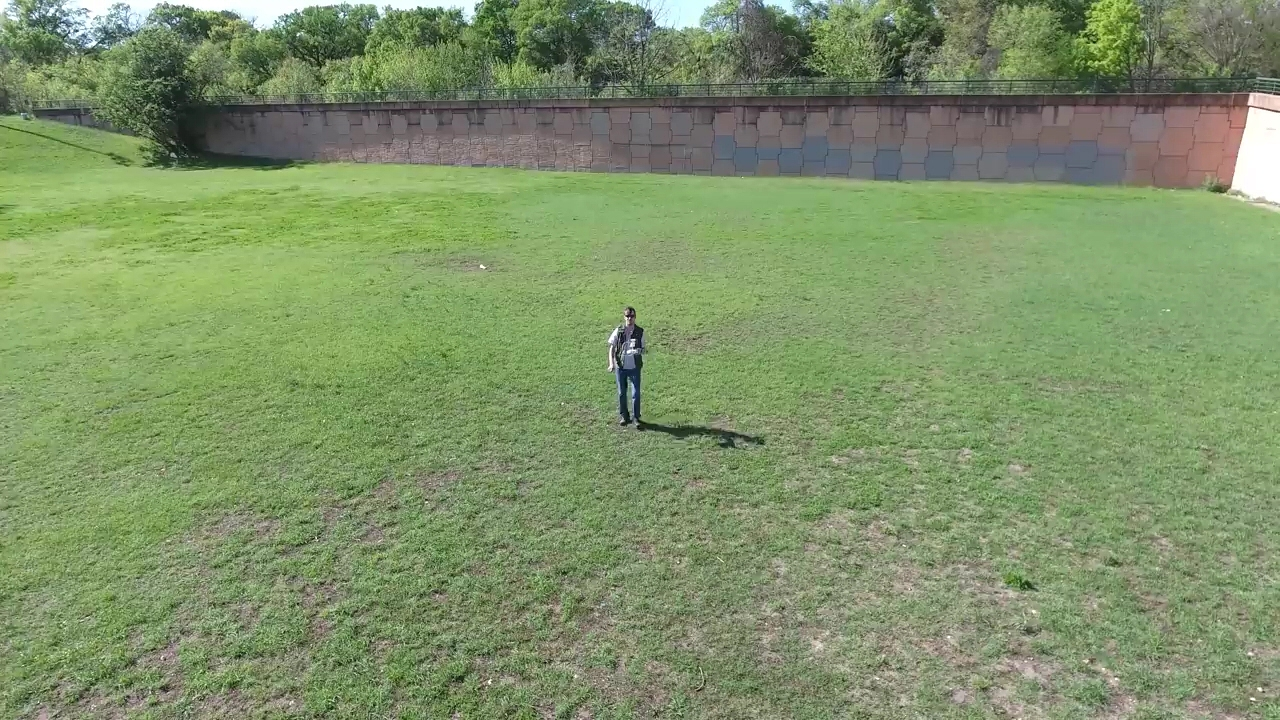insan: (602, 305, 655, 432)
